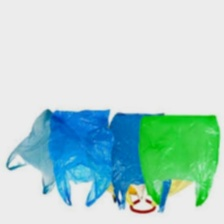plastic_bag: (138, 113, 223, 209), (46, 100, 115, 216), (107, 110, 173, 214), (4, 103, 71, 200)
